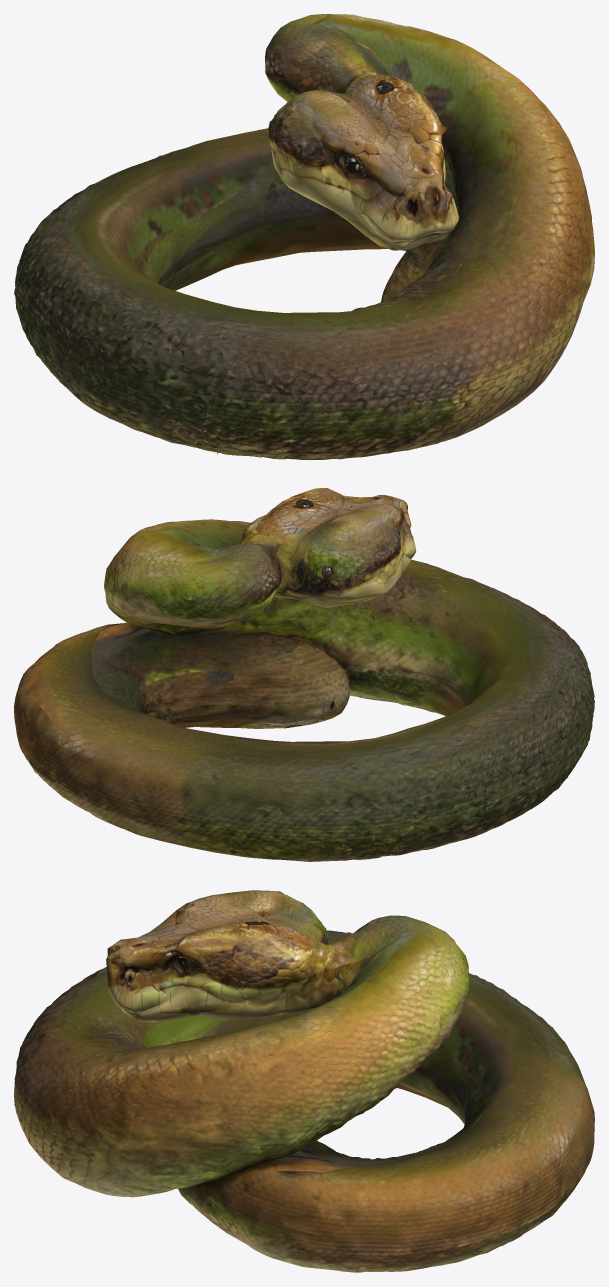
Rendered from constrictor-snake.glb.
3 views of the same model, one above another, from view 1: azimuth 30°, elevation 25°; view 2: azimuth 150°, elevation 25°; view 3: azimuth 270°, elevation 25° (orthographic). The views are drawn at different scales.
Size of the model in its own units: 1.99 by 0.9673 by 1.92.
1 material, 1 textured.
